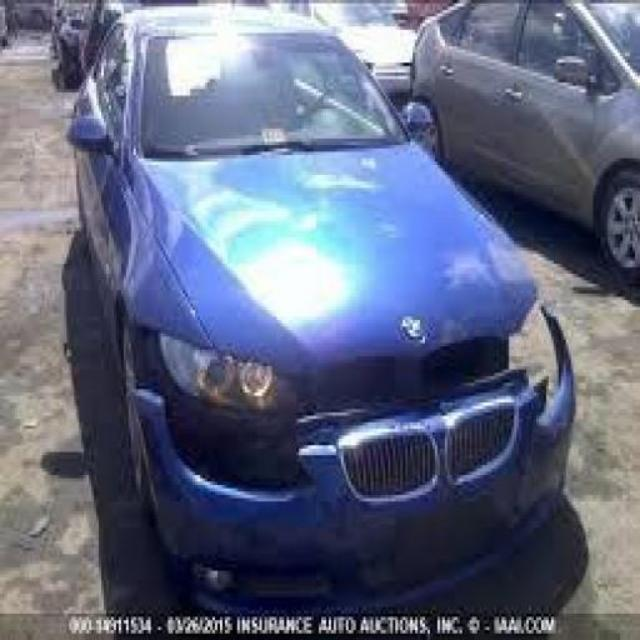dent: (514, 449, 564, 536)
dislocated part: (131, 372, 303, 473)
lamp broken: (508, 301, 565, 409)
